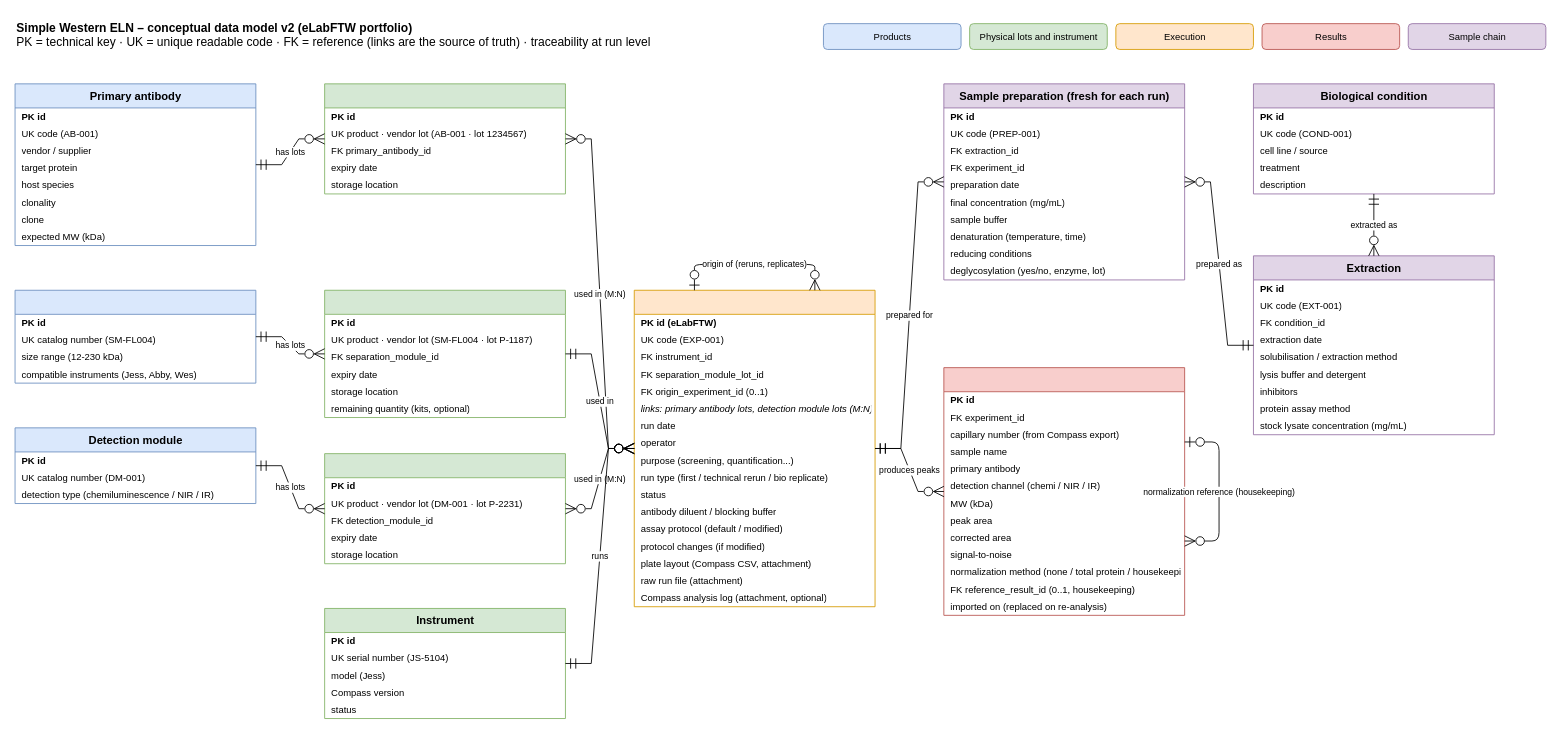
Some shapes in this 1561 by 734 pixel diagram are drawn without their labels. Here are the shapes that lost their labels. From the top down, the box of each, then its label:
(324, 83, 565, 194): Primary antibody lot
(14, 289, 256, 383): Separation module
(324, 289, 565, 418): Separation module lot
(633, 289, 875, 607): Experiment (= 1 Jess run)
(324, 453, 565, 564): Detection module lot
(943, 367, 1185, 615): Result (1 per peak, several peaks possible)
